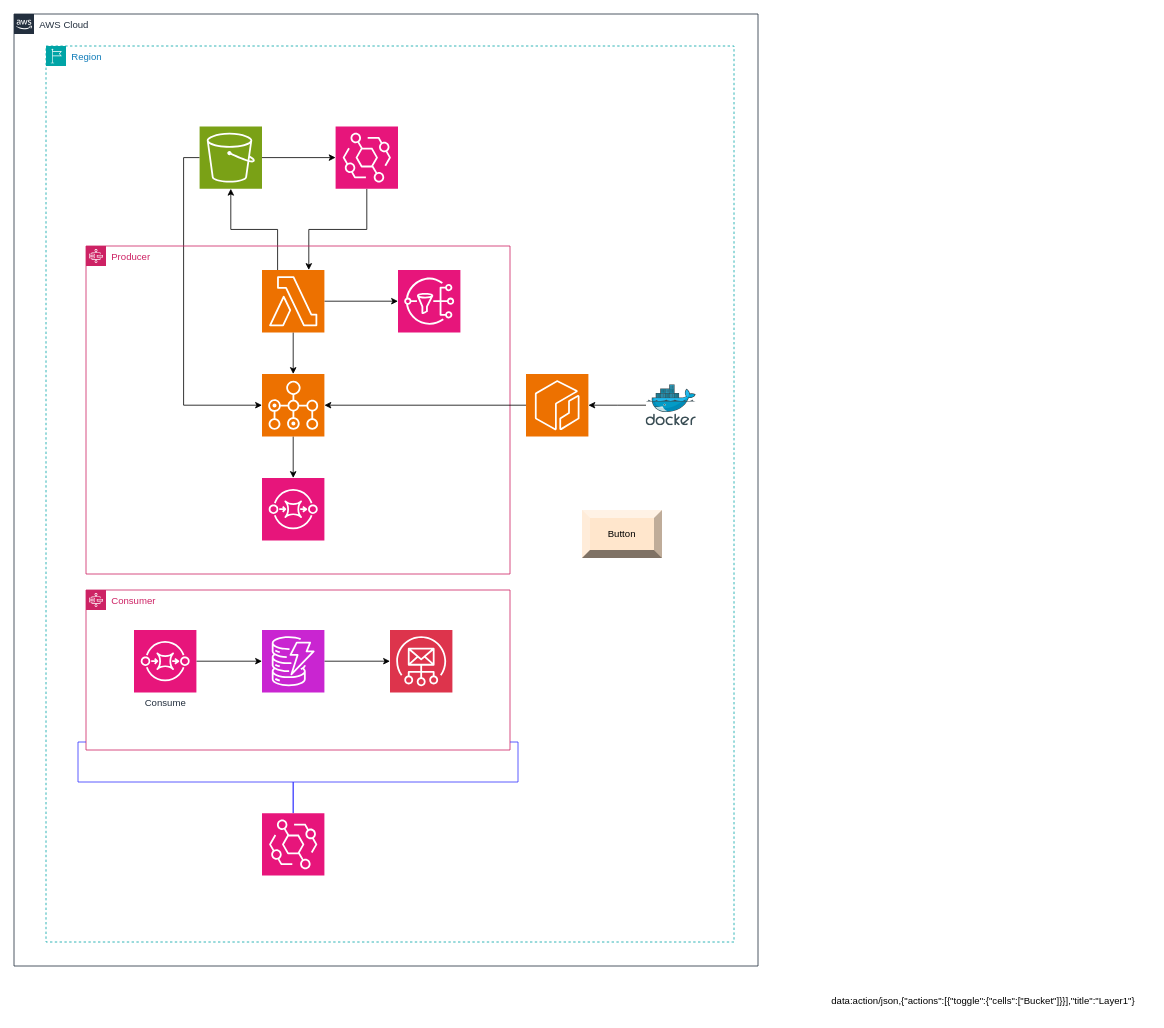
Image size: 1164x1028. Some labels were removed from this diagram. Here are the shapes that lost their labels. From the top down, the centre of each, then its label:
At pixel 292 508: "Publish".
At pixel 420 660: "Send to manager".
At pixel 292 844: "5 min timer".
